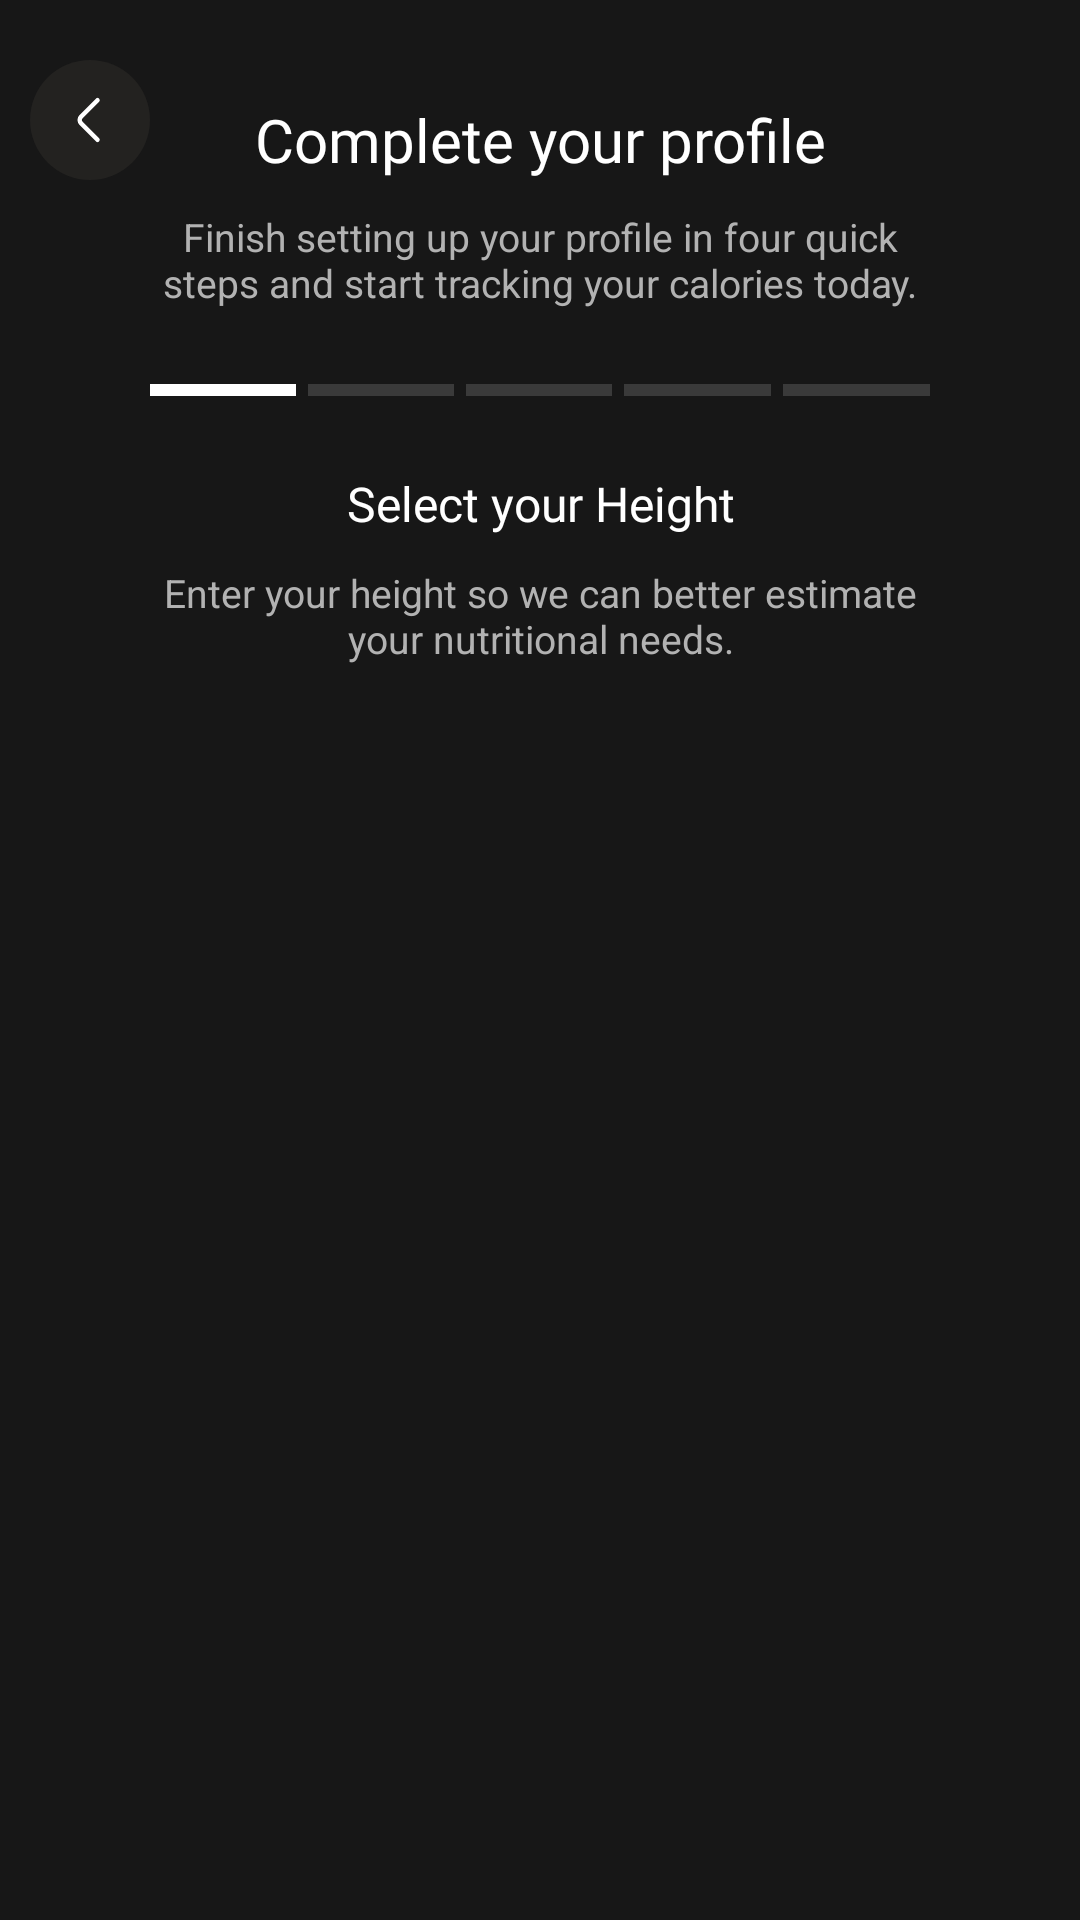

Screen size 1080w x 1920h. Icon name, then its center in pixels as (x=x, y=y):
back: (x=90, y=120)
